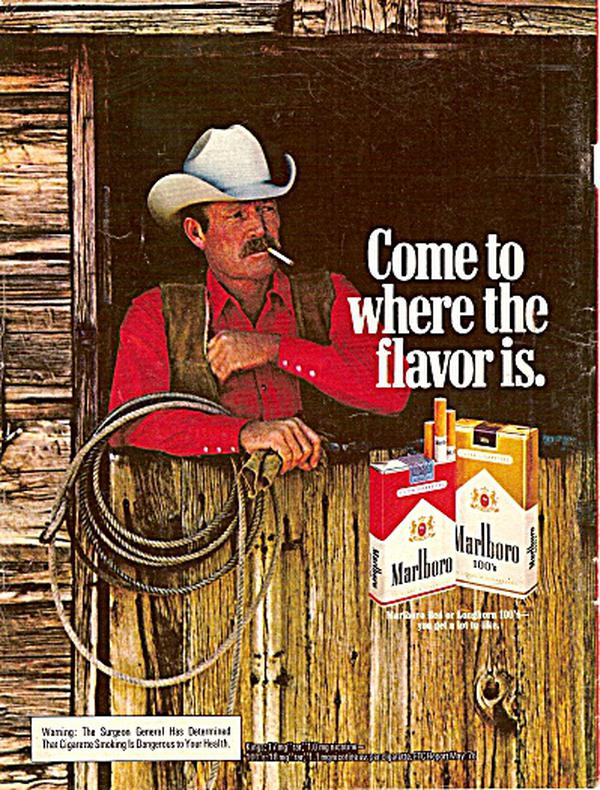marlboro_red: (385, 466, 454, 595)
